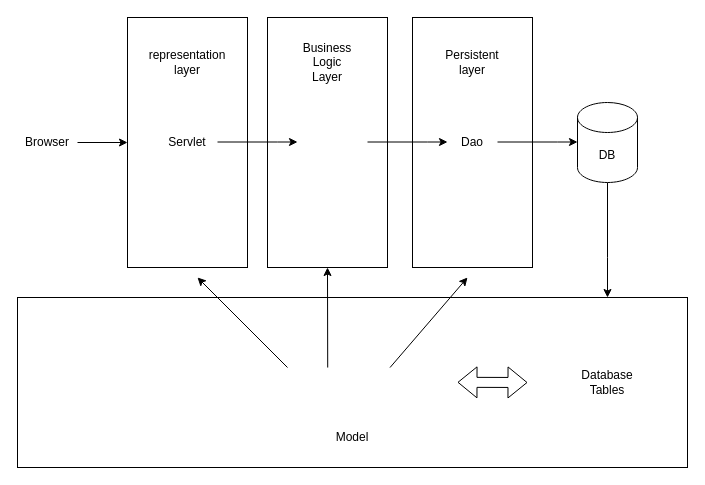
The diagram is 705 pixels wide and 485 high, and some of its shapes have lost their labels. The box of each missing label's shape, as (x1, y1, x2, y2) in pixels:
java entity classes: (16, 296, 688, 468)
Service: (266, 16, 388, 268)
